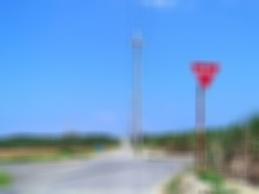Regulatory_sign_triangle: (188, 57, 224, 92)
